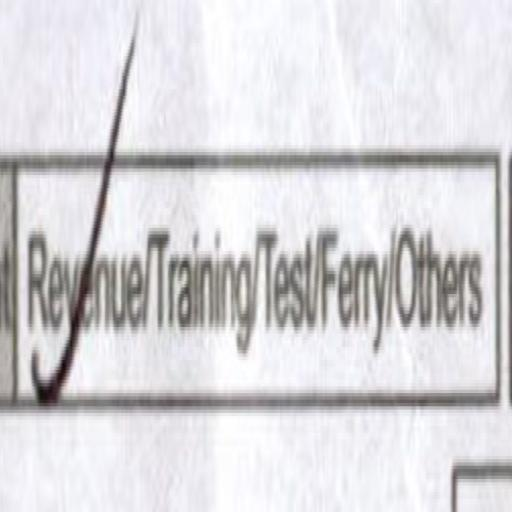check: (20, 102, 151, 450)
